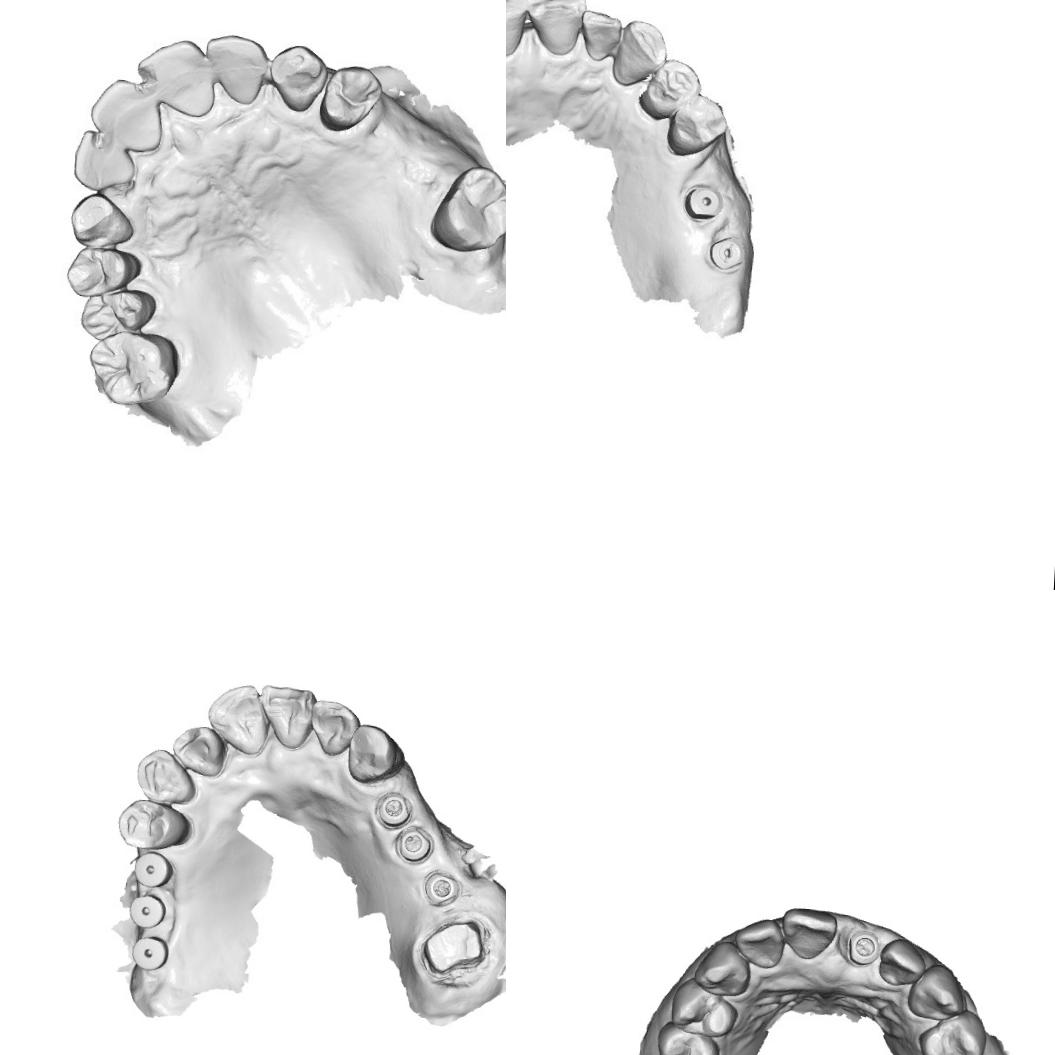canine: (608, 14, 671, 90), (265, 42, 330, 115), (344, 722, 407, 787), (66, 192, 134, 252), (133, 746, 199, 807), (690, 939, 752, 997), (906, 962, 963, 1022)
crown: (417, 913, 488, 981)
implant: (684, 176, 726, 224), (840, 927, 884, 970), (373, 788, 414, 830), (132, 849, 174, 888), (394, 824, 434, 864), (422, 868, 460, 908), (129, 934, 169, 971), (128, 891, 166, 929), (711, 234, 746, 270)
incisor: (132, 36, 218, 118), (86, 75, 166, 155), (202, 28, 267, 109), (204, 681, 272, 756), (70, 127, 138, 192), (257, 683, 317, 751), (527, 0, 587, 56), (168, 722, 228, 778), (307, 698, 362, 757), (730, 916, 788, 971), (782, 908, 834, 960), (875, 936, 928, 986), (577, 4, 622, 60), (506, 0, 528, 55)
molar: (84, 324, 181, 410), (428, 162, 506, 255)
premolar: (314, 62, 384, 136), (76, 283, 158, 343), (634, 56, 704, 124), (61, 240, 142, 298), (115, 795, 194, 853), (667, 92, 730, 160), (669, 977, 739, 1037), (916, 1008, 988, 1055), (651, 1019, 723, 1055)
